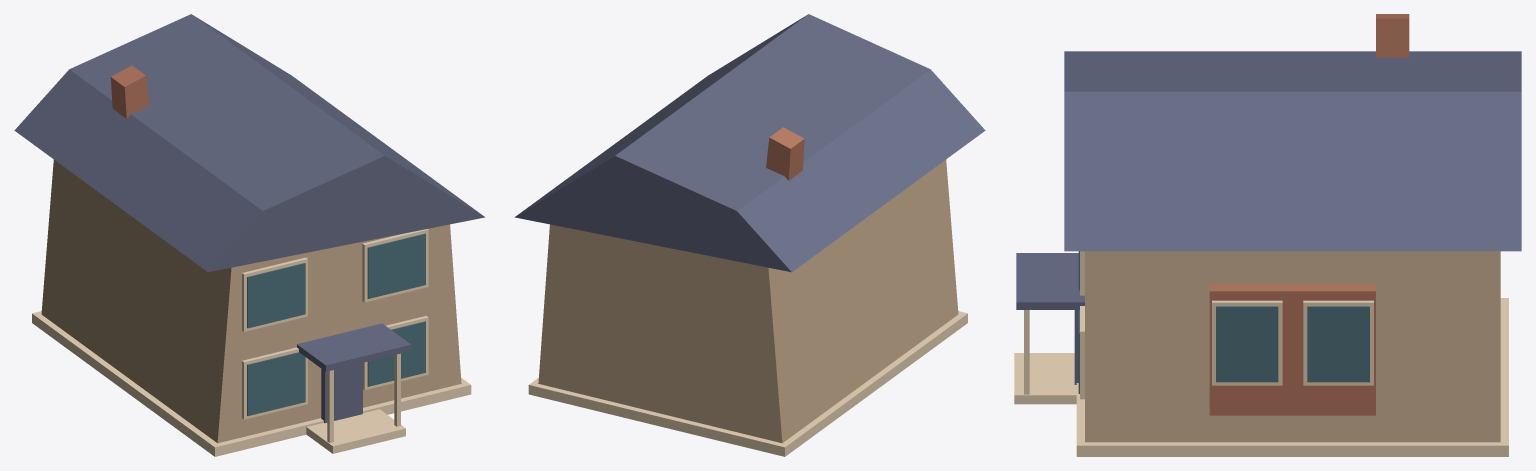
The model's file is detached-house-low-poly.glb.
3 renders of one model, left to right at view 1: azimuth 30°, elevation 25°; view 2: azimuth 150°, elevation 25°; view 3: azimuth 270°, elevation 25°, orthographic. The views are drawn at different scales.
Visible parts, largest first — view 1: detached-house-low-poly; view 2: detached-house-low-poly; view 3: detached-house-low-poly.
Part boxes in pixels (left/top/right/bottom): detached-house-low-poly: left=14, top=14, right=484, bottom=456; detached-house-low-poly: left=515, top=14, right=985, bottom=456; detached-house-low-poly: left=1014, top=14, right=1521, bottom=456.
Size of the model in its own units: 9.1 by 8.6 by 12.2.
